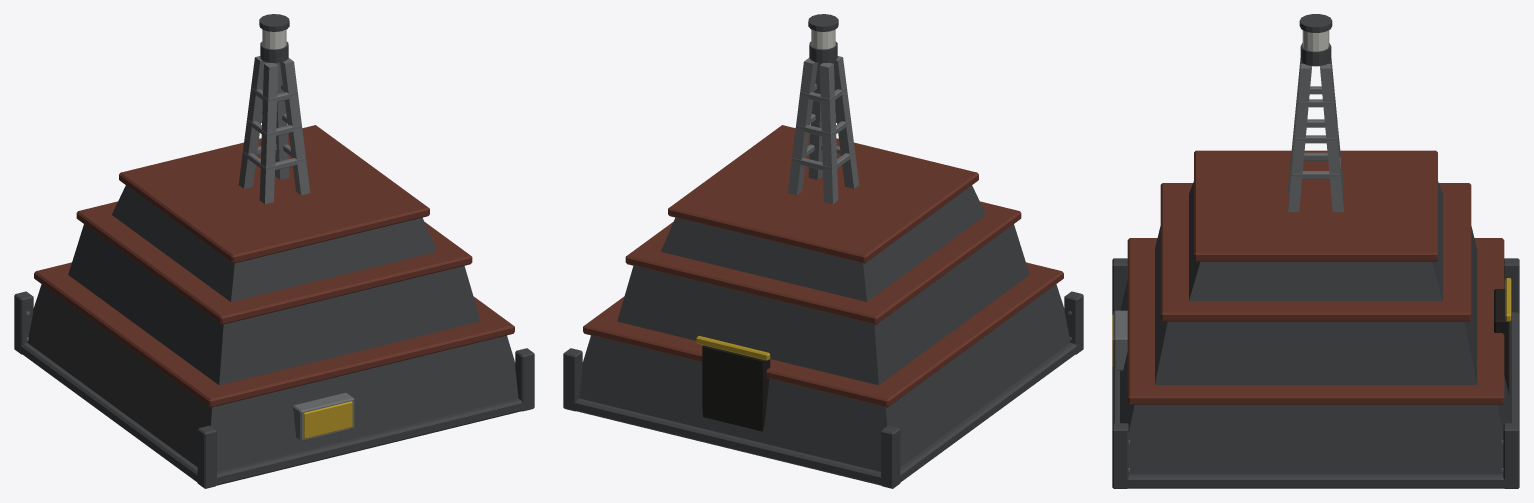
The model's file is nest.glb.
3 views of the same model, side by side, from view 1: azimuth 30°, elevation 25°; view 2: azimuth 150°, elevation 25°; view 3: azimuth 270°, elevation 25° (orthographic). The views are drawn at different scales.
Visible parts, largest first — view 1: nest_CastIron, nest_OxideRed, nest_WeldedSteel, nest_HazardYellow; view 2: nest_CastIron, nest_OxideRed, nest_WeldedSteel, nest_Soot, nest_HazardYellow; view 3: nest_CastIron, nest_OxideRed, nest_WeldedSteel, nest_Soot, nest_GaugeGlass.
Boxes of the visible parts, box(x1,y1,x2,y2) form: nest_CastIron: box(14, 14, 534, 488); nest_OxideRed: box(34, 125, 514, 407); nest_WeldedSteel: box(26, 56, 354, 441); nest_HazardYellow: box(303, 401, 352, 438); nest_CastIron: box(563, 14, 1083, 488); nest_OxideRed: box(583, 125, 1063, 407); nest_WeldedSteel: box(787, 56, 1071, 340); nest_Soot: box(702, 345, 770, 431); nest_HazardYellow: box(696, 336, 770, 360); nest_CastIron: box(1112, 14, 1519, 488); nest_OxideRed: box(1127, 150, 1504, 404); nest_WeldedSteel: box(1113, 58, 1503, 471); nest_Soot: box(1494, 289, 1509, 394); nest_GaugeGlass: box(1302, 30, 1329, 51).
Size of the model in its own units: 8 by 8.3 by 8.
